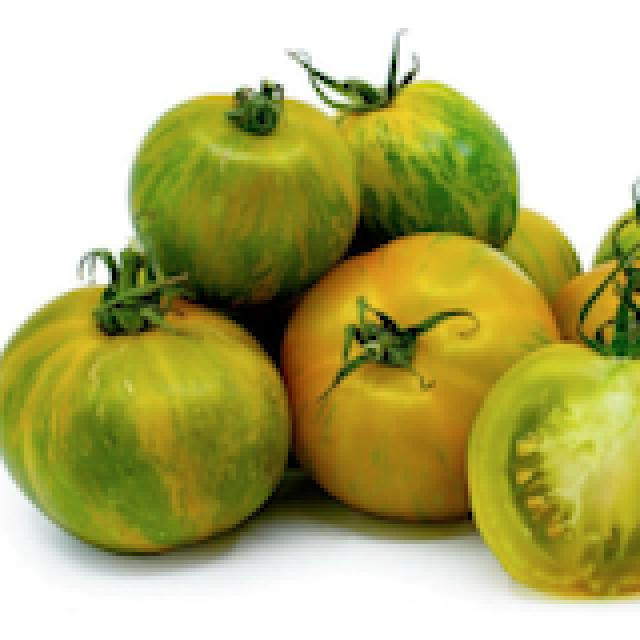yesil: (0, 48, 636, 604)
